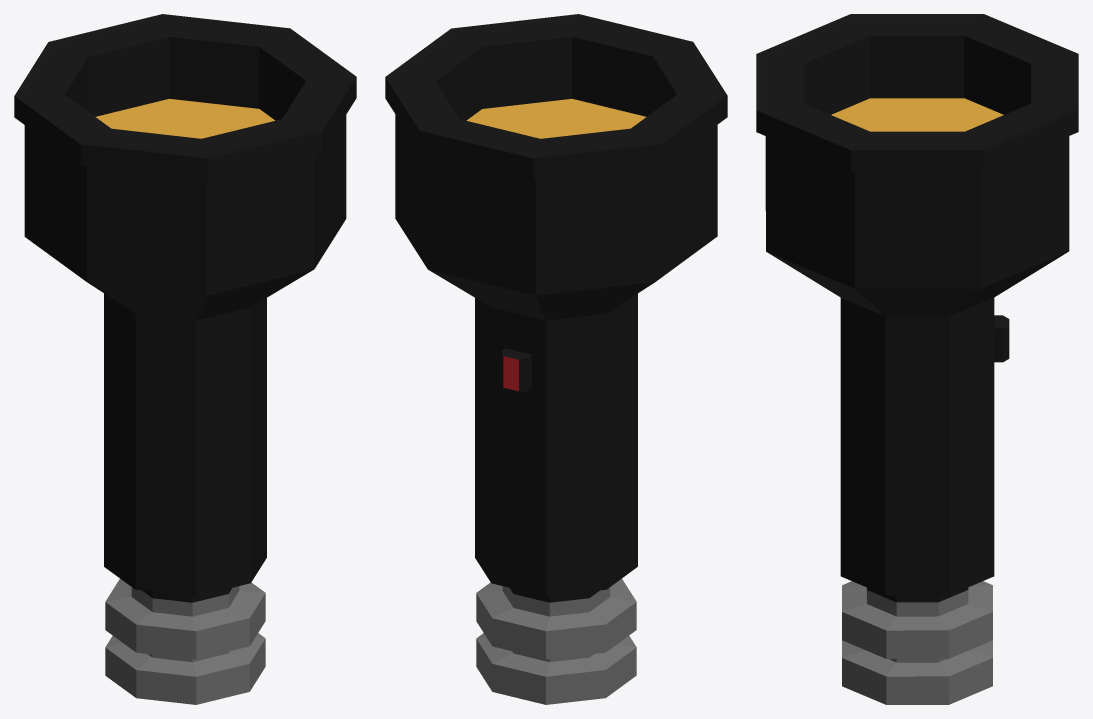
File: FlashLight.fbx
3 views of the same model, side by side, from view 1: azimuth 30°, elevation 25°; view 2: azimuth 150°, elevation 25°; view 3: azimuth 270°, elevation 25° (orthographic).
Visible parts, largest first — view 1: FlashLight; view 2: FlashLight; view 3: FlashLight.
Part boxes in pixels (<box>): FlashLight: <box>14,14,356,704</box>; FlashLight: <box>385,14,727,704</box>; FlashLight: <box>756,14,1078,704</box>.
Bounding box in the file's own units: 159 × 322 × 159.
